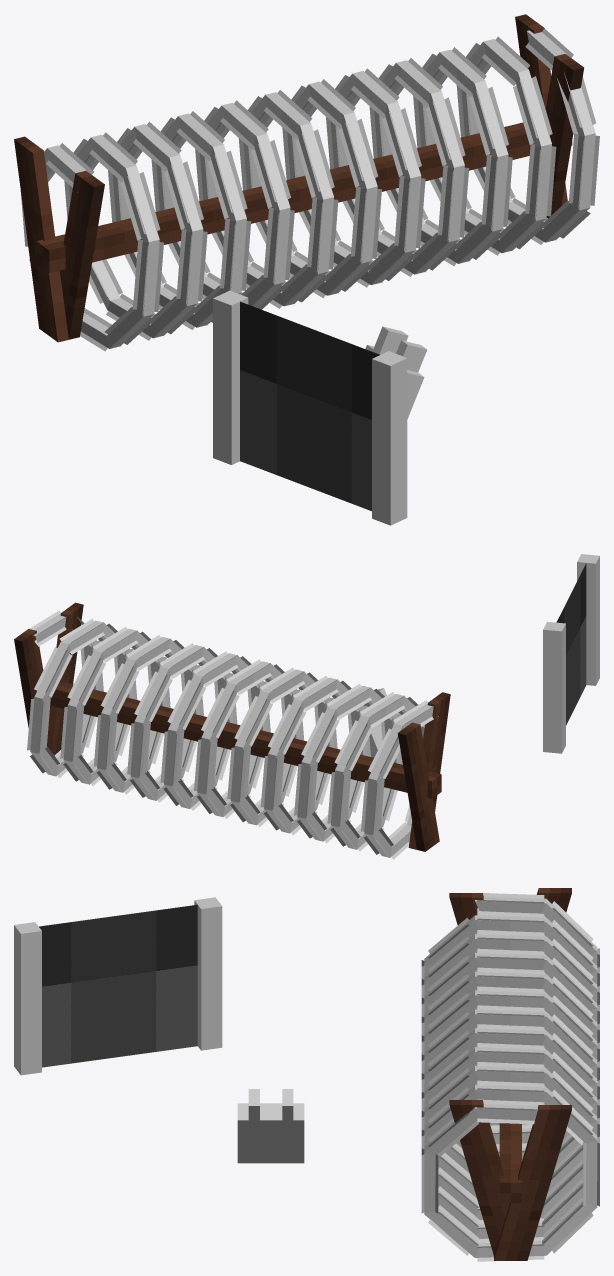
The model's file is upgrade_capture_defiance.obj.
3 renders of one model, top to bottom at view 1: azimuth 30°, elevation 25°; view 2: azimuth 150°, elevation 25°; view 3: azimuth 270°, elevation 25°, orthographic. The views are drawn at different scales.
Parts seen in each view (by area): view 1: barbs, cube, plank, Part_53, Part_52; view 2: barbs, plank, cube, Part_52, Part_53; view 3: barbs, cube, plank, Part_53, Part_52.
Part boxes in pixels (x1=…): barbs: x1=20, y1=28, x2=599, y2=351; cube: x1=240, y1=301, x2=427, y2=511; plank: x1=14, y1=14, x2=583, y2=342; Part_53: x1=372, y1=351, x2=407, y2=525; Part_52: x1=213, y1=290, x2=248, y2=464; barbs: x1=27, y1=610, x2=438, y2=859; plank: x1=14, y1=602, x2=450, y2=851; cube: x1=363, y1=563, x2=586, y2=757; Part_52: x1=543, y1=621, x2=565, y2=753; Part_53: x1=577, y1=554, x2=599, y2=685; barbs: x1=421, y1=892, x2=599, y2=1261; cube: x1=39, y1=904, x2=304, y2=1163; plank: x1=449, y1=888, x2=571, y2=1260; Part_53: x1=14, y1=922, x2=41, y2=1075; Part_52: x1=194, y1=897, x2=222, y2=1050.
Bounding box in the file's own units: 3 × 1.18 × 3.28.
